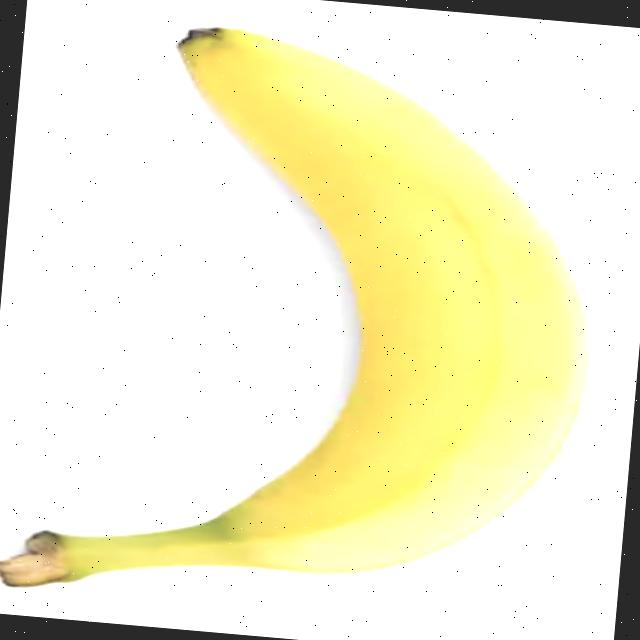banana: (0, 8, 615, 635)
